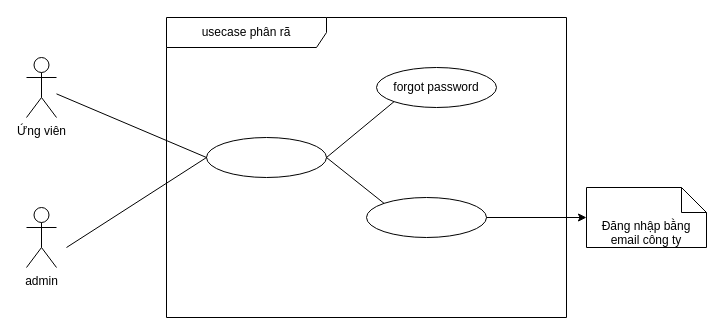
The diagram is 724 pixels wide and 335 high, and some of its shapes have lost their labels. Here are the shapes that lost their labels. From the top down, the centre of each, then its label:
At pixel 266 157: "Đăng nhập".
At pixel 426 217: "Nhập email, password".
